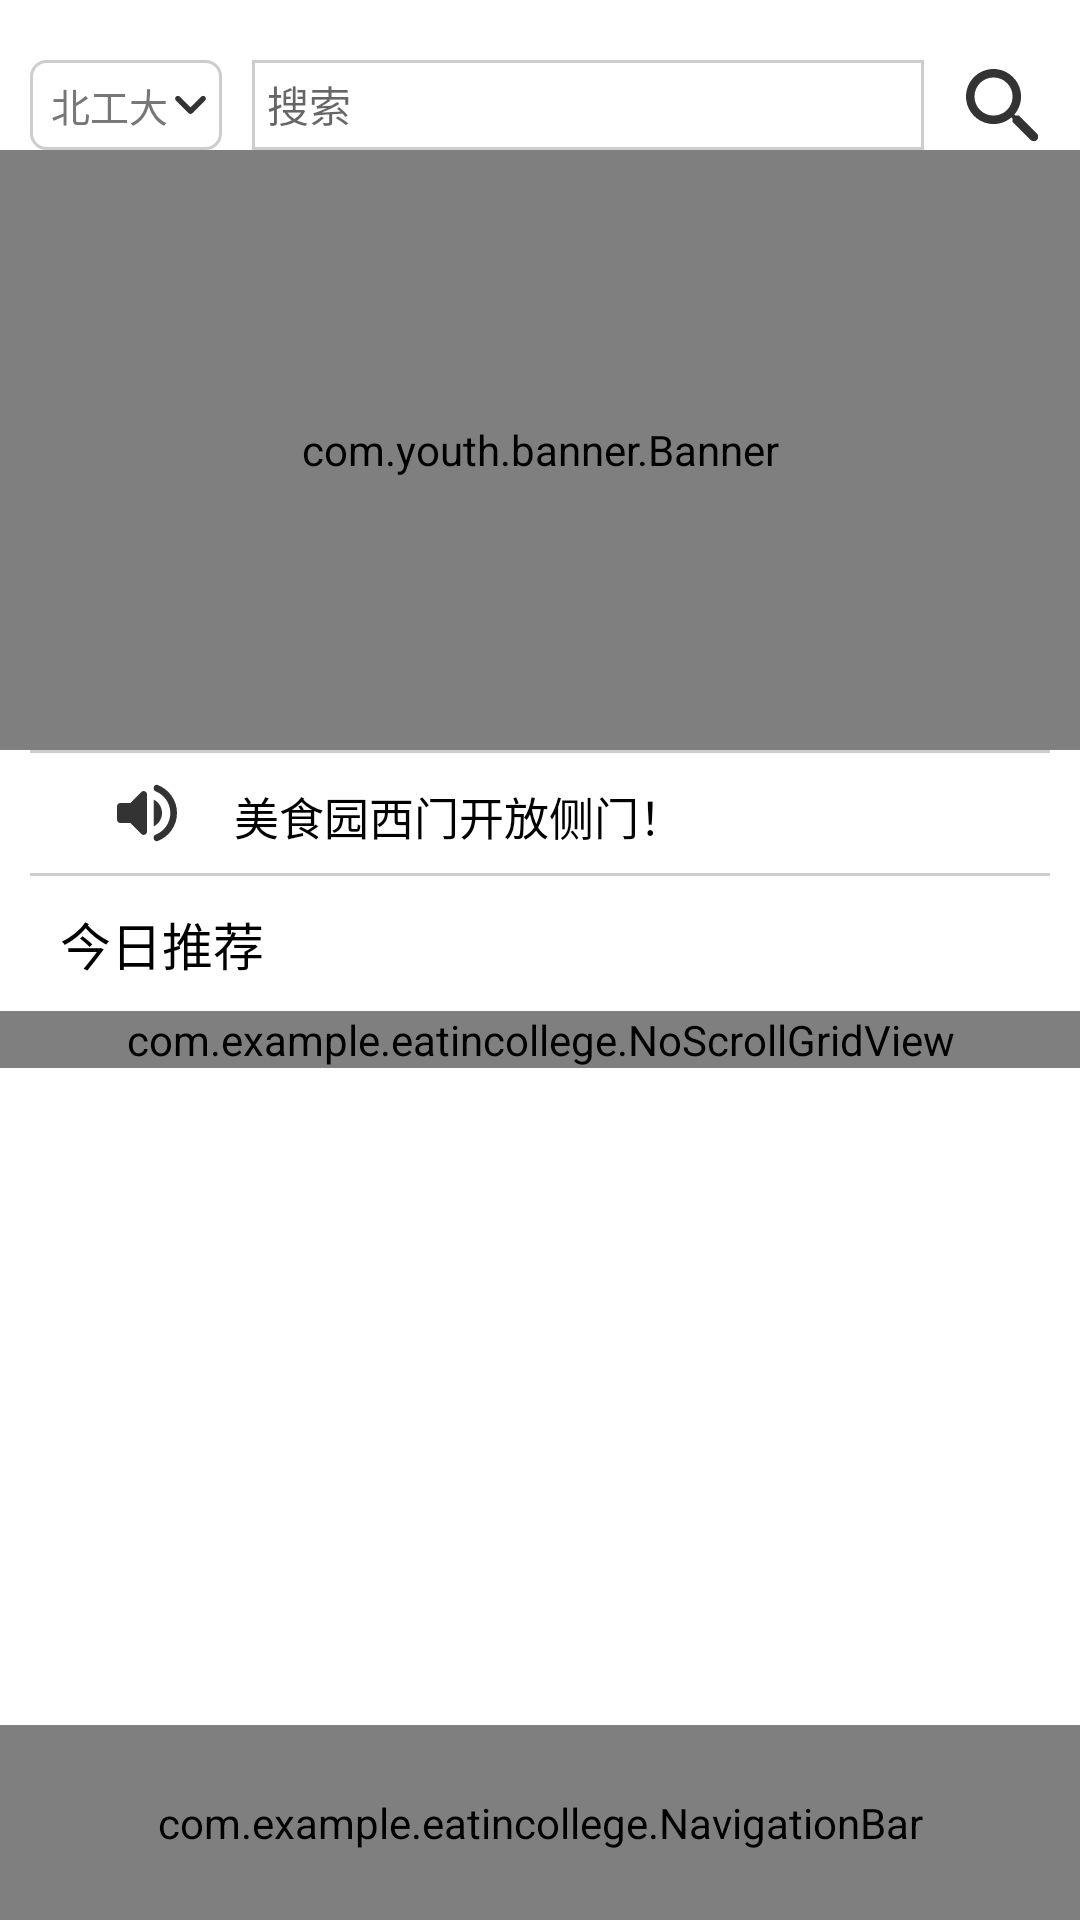

Icon bounding boxes for this 1080w x 1920h phone screenshot, format (x1, y1, x2, y2):
broadcast: (117, 784, 177, 842)
drop down: (175, 96, 206, 114)
search: (966, 69, 1038, 141)
